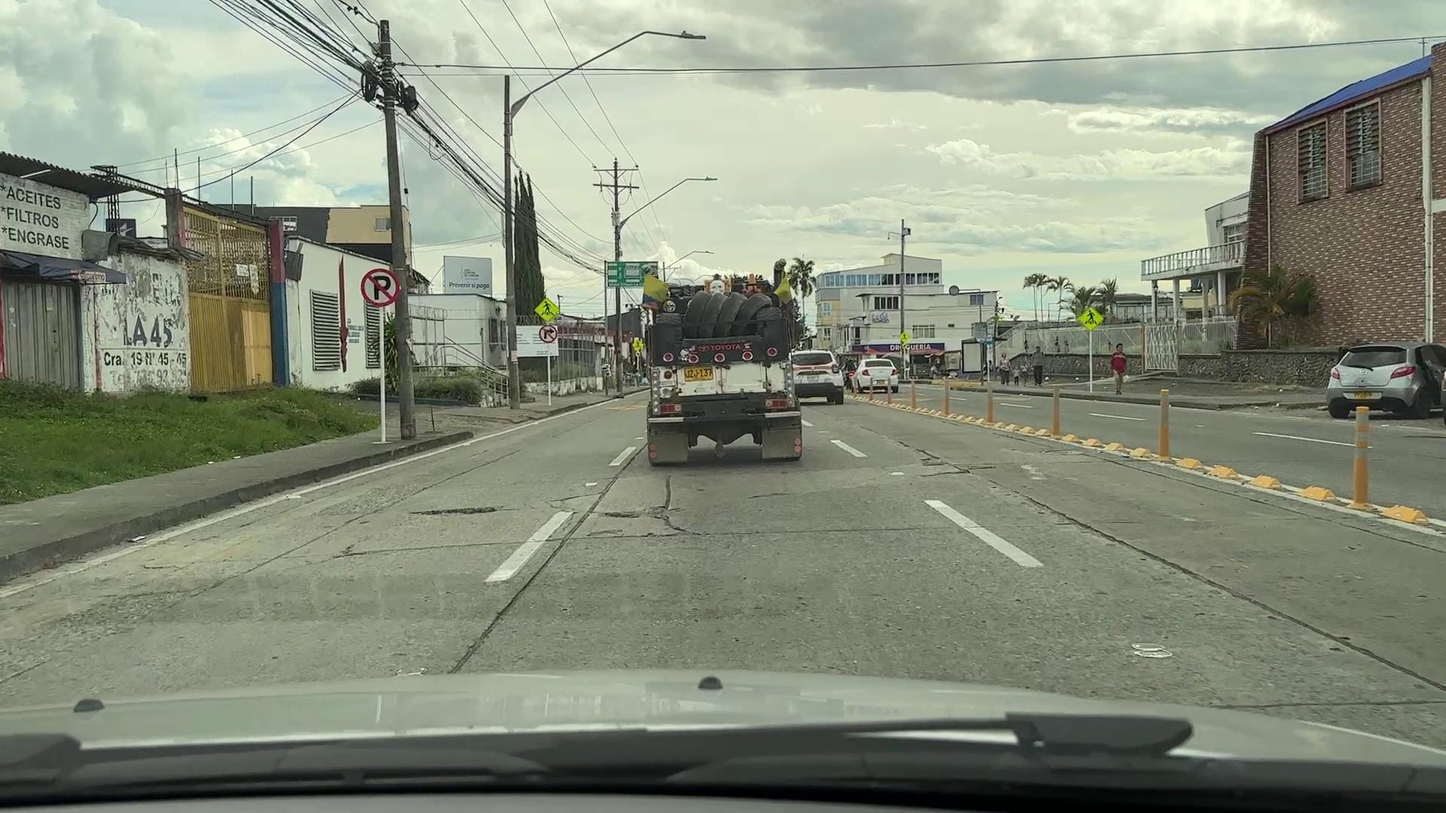bache: (920, 463, 997, 477), (408, 506, 519, 515), (605, 506, 669, 521), (920, 458, 948, 466)
grieta: (1013, 491, 1445, 691), (586, 521, 702, 538), (317, 536, 373, 562), (898, 441, 941, 459), (665, 475, 671, 508)
registro: (1043, 449, 1098, 455)
